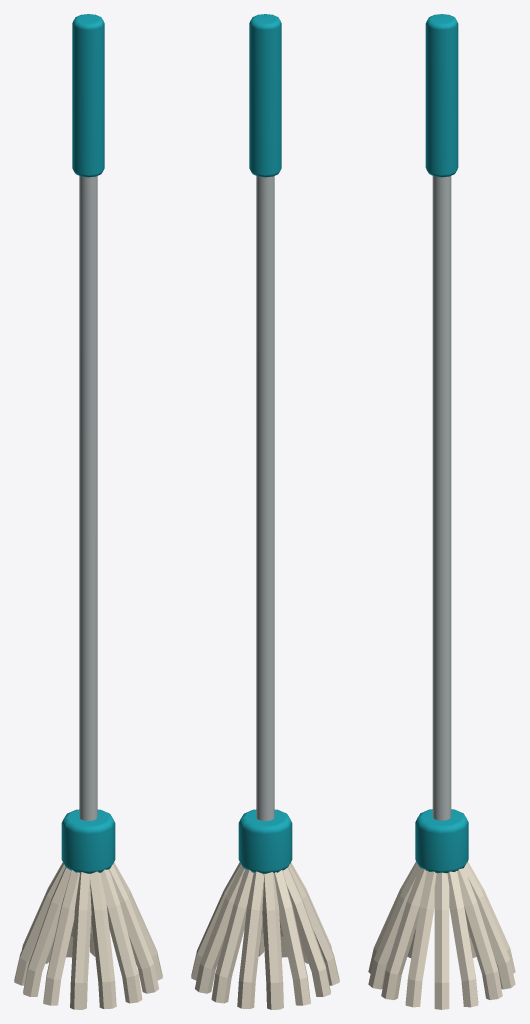
The model's file is Utility_Mop.glb.
3 views of the same model, side by side, from view 1: azimuth 30°, elevation 25°; view 2: azimuth 150°, elevation 25°; view 3: azimuth 270°, elevation 25° (orthographic).
Parts seen in each view (by area): view 1: Utility_Mop__Visual; view 2: Utility_Mop__Visual; view 3: Utility_Mop__Visual.
Part boxes in pixels (<box>): Utility_Mop__Visual: <box>14,14,162,1009</box>; Utility_Mop__Visual: <box>191,14,339,1009</box>; Utility_Mop__Visual: <box>368,14,515,1009</box>.
Bounding box in the file's own units: 0.2135 × 1.5 × 0.2088.
1 material, 1 textured.
